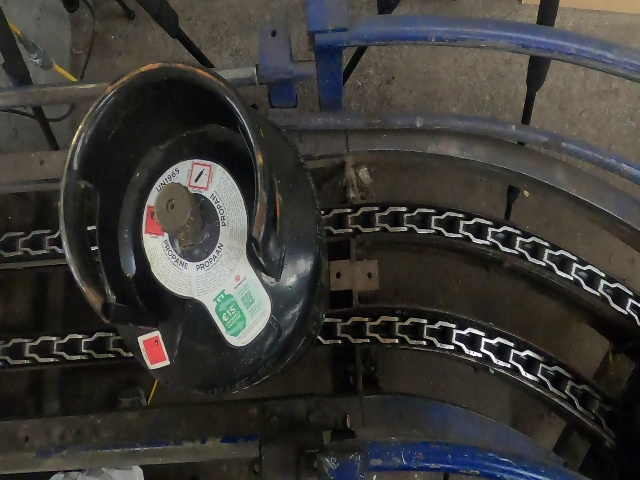gas_bottle: (0, 1, 635, 480)
